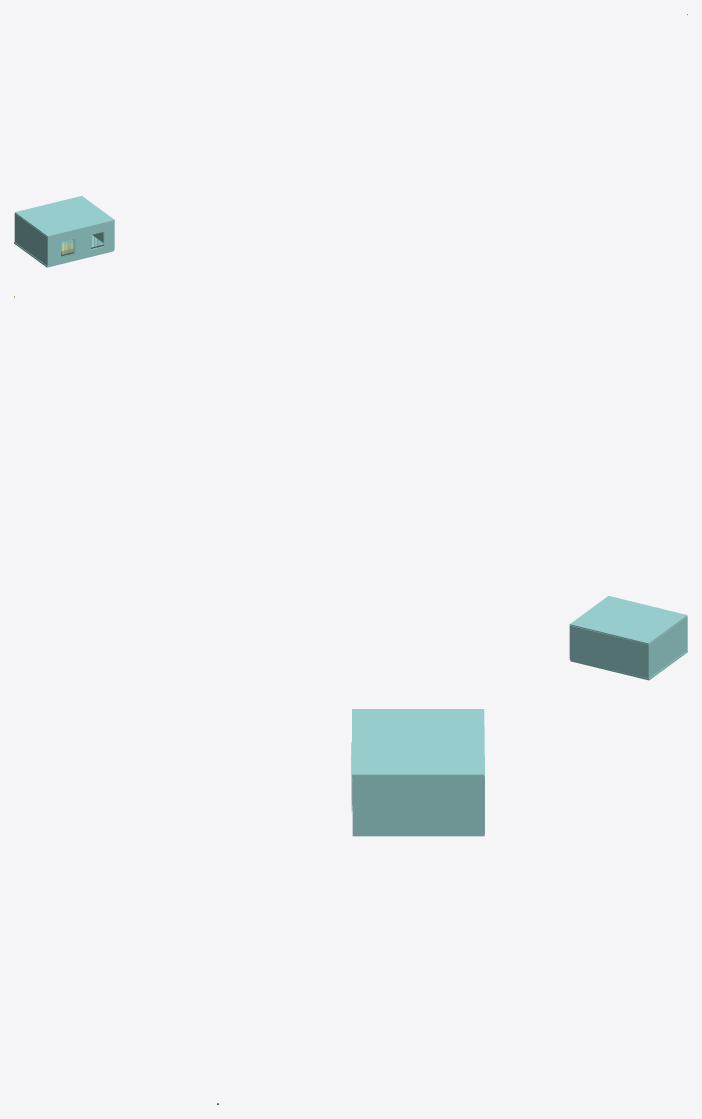
Rendered from lib.obj.
3 views of the same model, one above another, from view 1: azimuth 30°, elevation 25°; view 2: azimuth 150°, elevation 25°; view 3: azimuth 270°, elevation 25° (orthographic). The views are drawn at different scales.
Parts seen in each view (by area): view 1: Wall001, Box010; view 2: Wall001, Box010; view 3: Box010, Wall001.
Boxes of the visible parts, left/top/right/bottom form: Wall001: left=14, top=213, right=114, bottom=266; Box010: left=15, top=196, right=114, bottom=236; Wall001: left=569, top=616, right=687, bottom=678; Box010: left=569, top=596, right=687, bottom=644; Box010: left=352, top=709, right=483, bottom=776; Wall001: left=352, top=711, right=484, bottom=834.
Size of the model in its own units: 20735 by 4235 by 3965.
